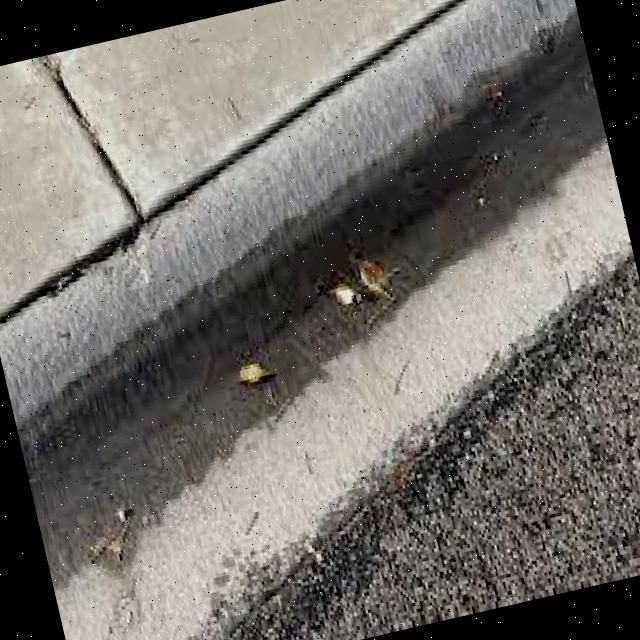curb: (1, 1, 587, 528)
